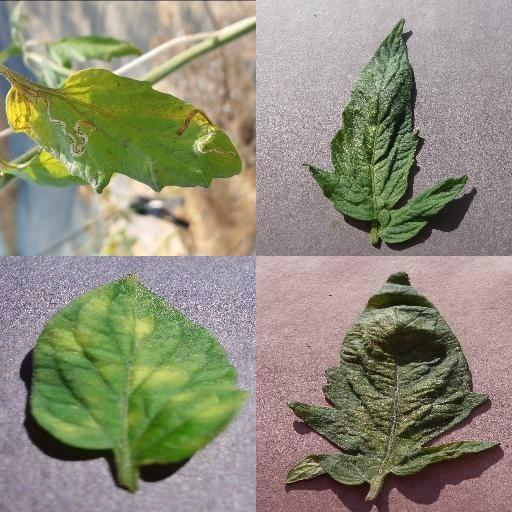Leaf Miner: (1, 63, 243, 195)
Leaf Mold: (32, 271, 238, 467)
Spider Mites: (286, 271, 502, 487), (306, 17, 468, 243)
